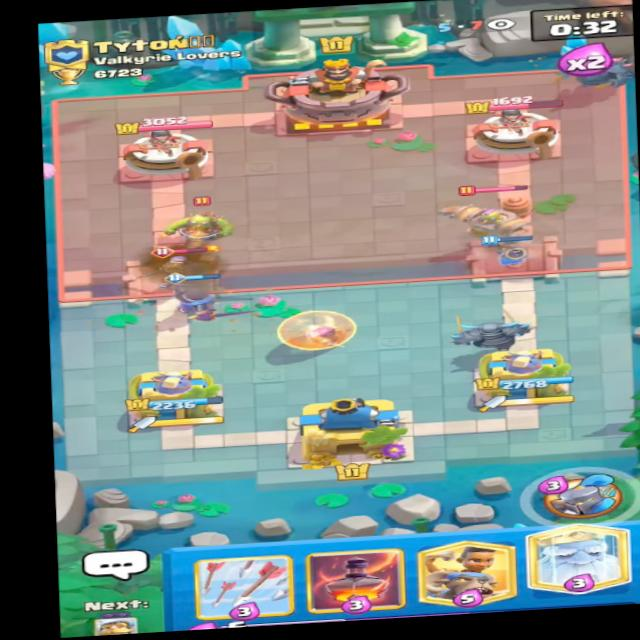evo-knight: (142, 241, 221, 292)
goblin-demolisher: (160, 196, 252, 246)
goblin-machine: (445, 178, 547, 237)
pekka: (544, 43, 638, 91)
